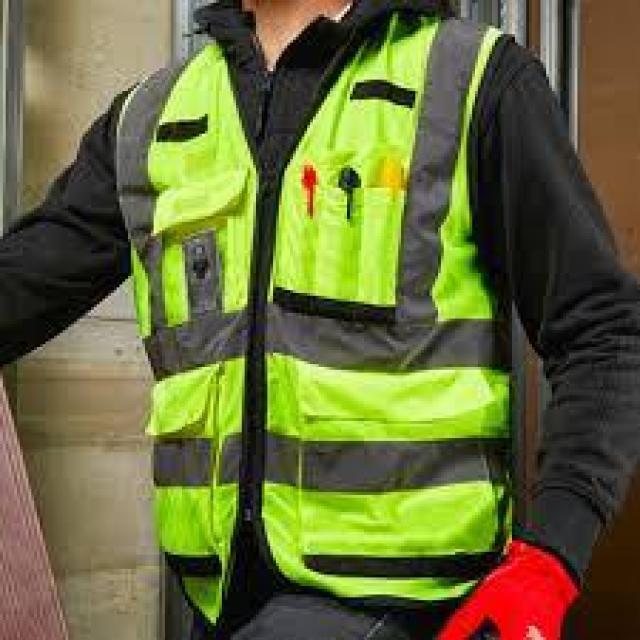vest: (121, 31, 522, 603)
